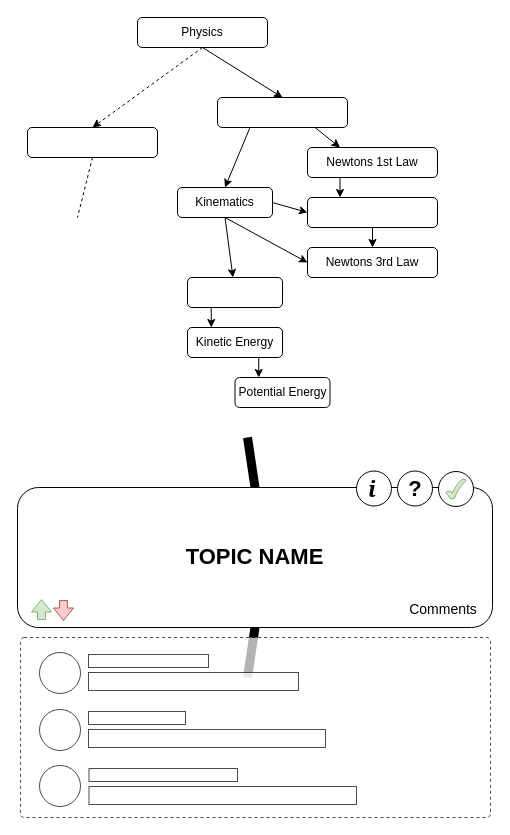
Image size: 510x835. Some labels were removed from this diagram. Each missing label, with the centre of its shape:
"Energy" belongs at (234,292).
"Mechanics" belongs at (282,112).
"Newtons 2nd Law" belongs at (372,212).
"Thermodynamics" belongs at (92,142).
